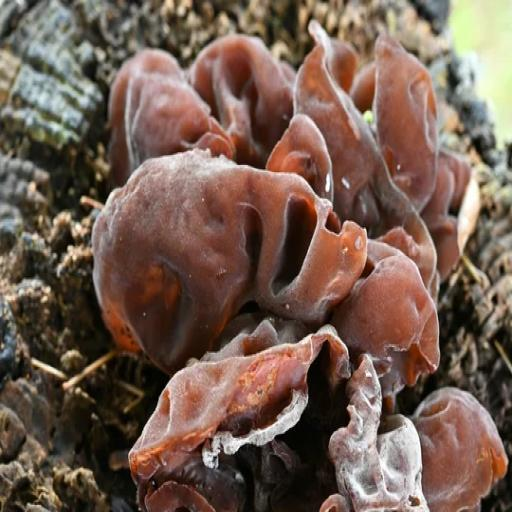mushroom: (94, 35, 475, 384), (136, 317, 413, 512), (370, 370, 512, 512)
